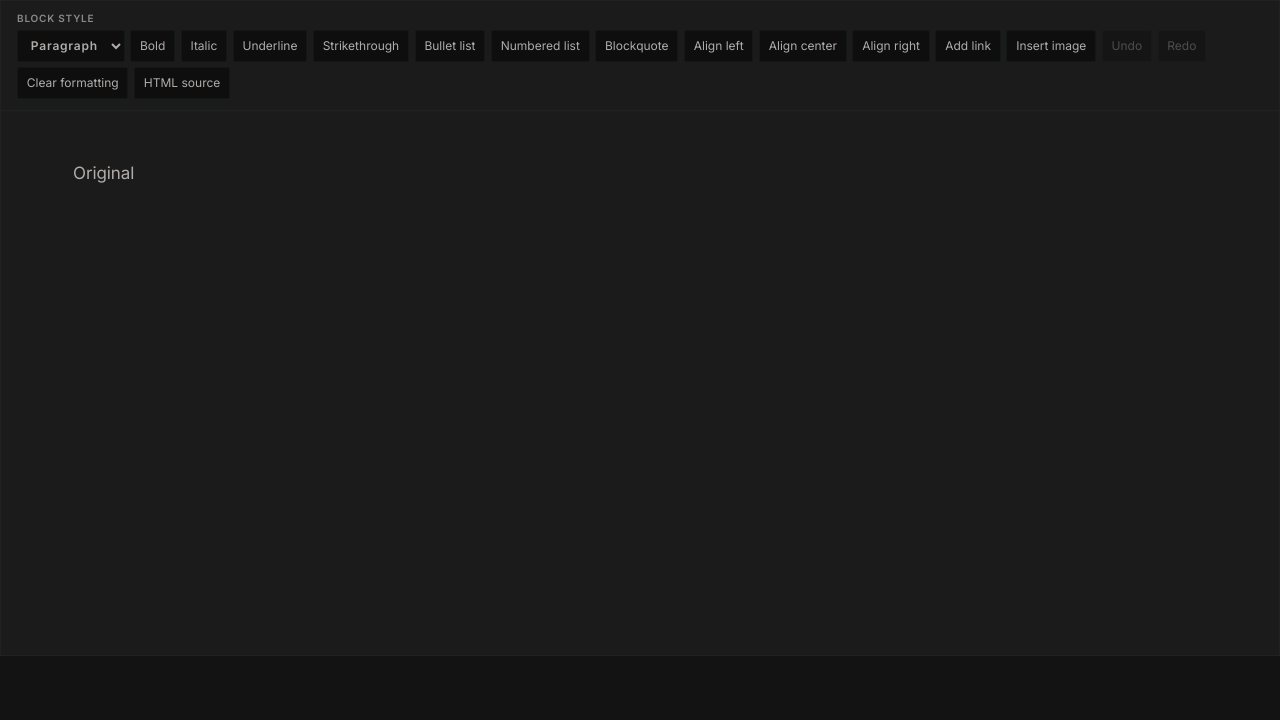
Test: RichTextEditor › round-trips changes through HTML source mode
Click the button "HTML source" at (182, 83), box [134, 67, 230, 99]
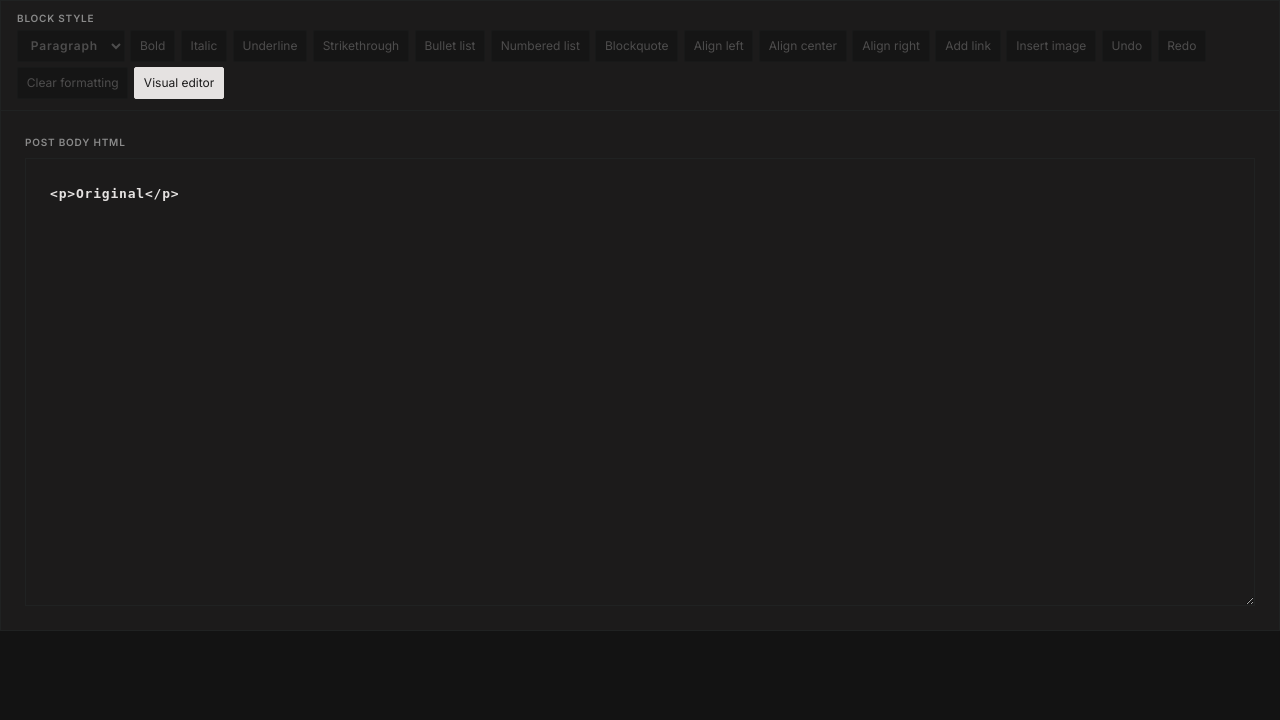
Replace the text in the text box labelled "Post body HTML" with "<h2>Revised</h2><p>Copy</p>" at (640, 382), box [25, 158, 1255, 606]
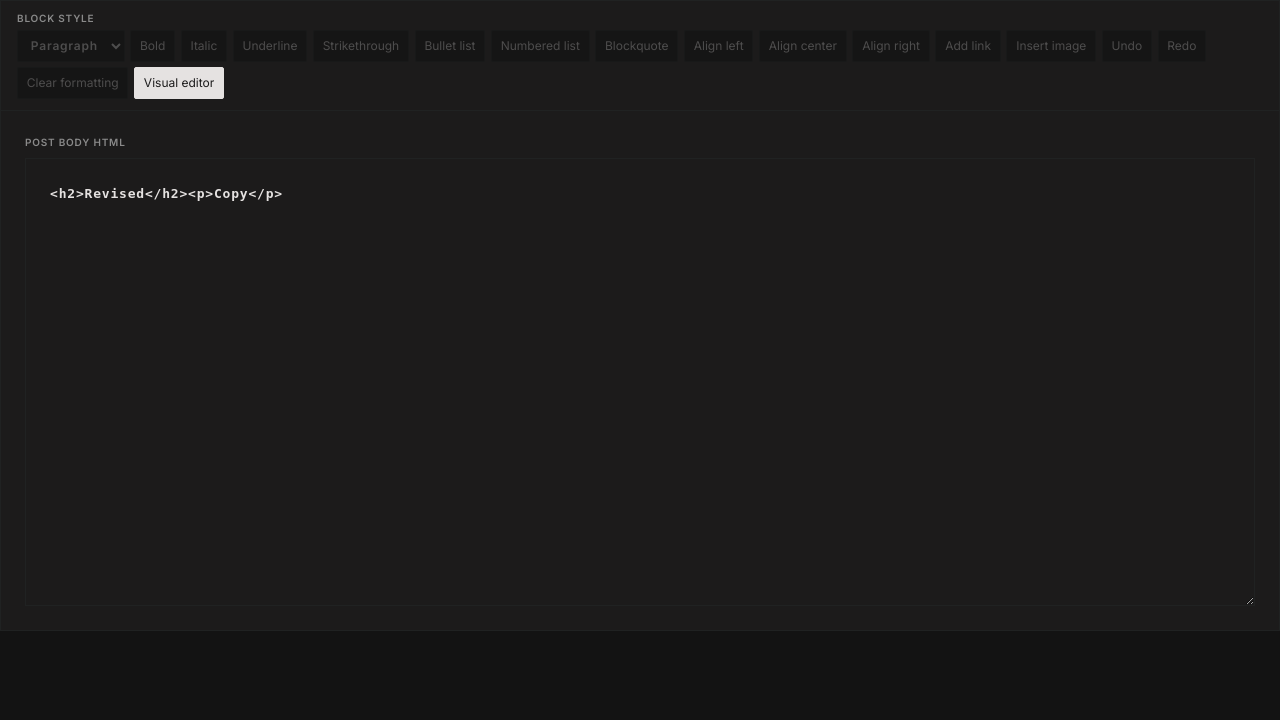
Click the button "Visual editor" at (179, 83), box [134, 67, 224, 99]
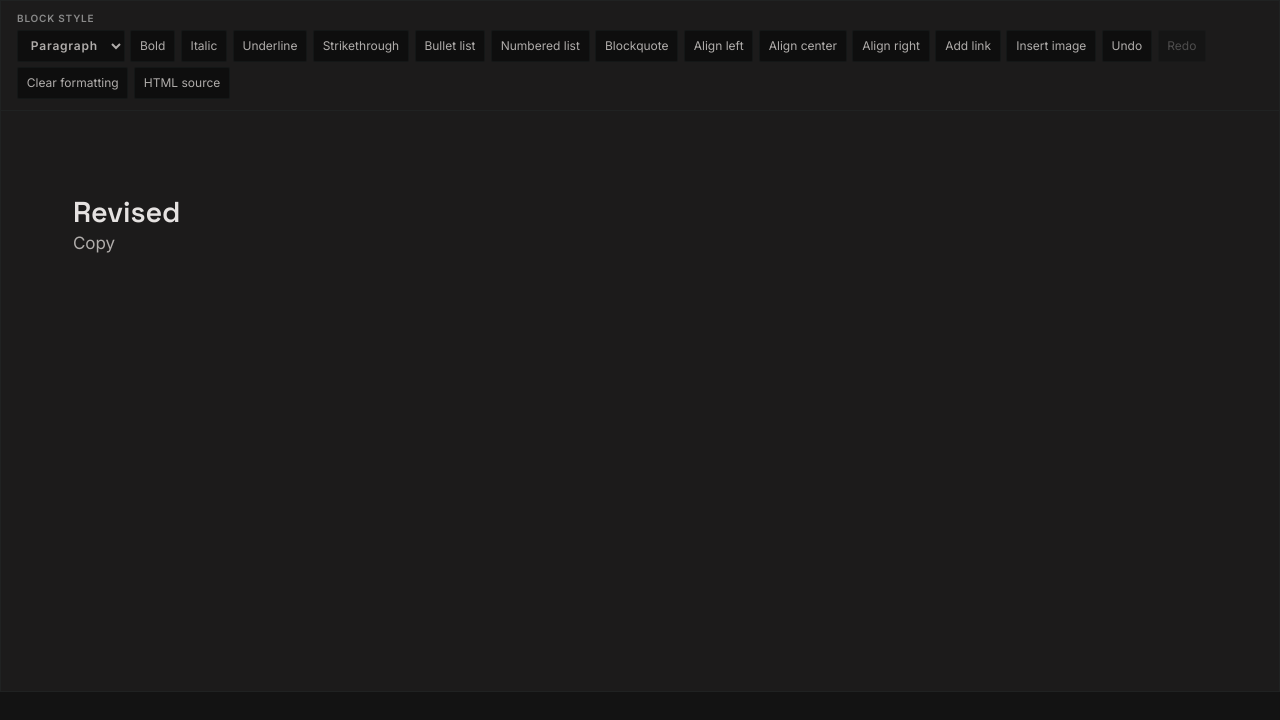
Result: the heading "Revised" is shown at [73, 194, 180, 230]
